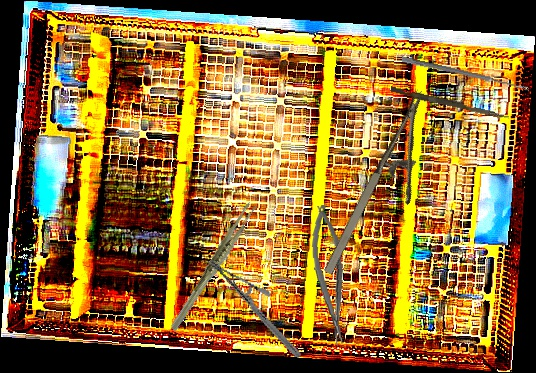Needle Holder: (318, 89, 460, 291), (189, 259, 321, 359), (307, 203, 351, 347)
Pusher: (389, 86, 511, 120)
Surgical Spoon: (401, 56, 530, 92)
Tissue Forceps: (149, 199, 277, 333)
